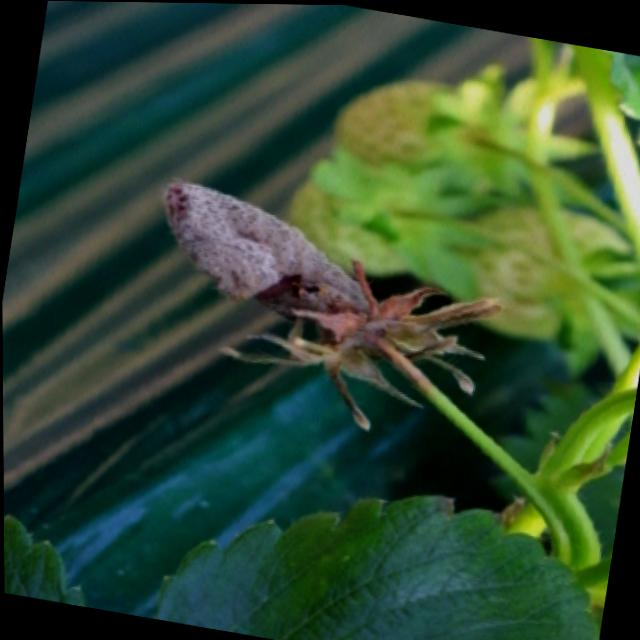Gray Mold: (160, 178, 501, 432)
